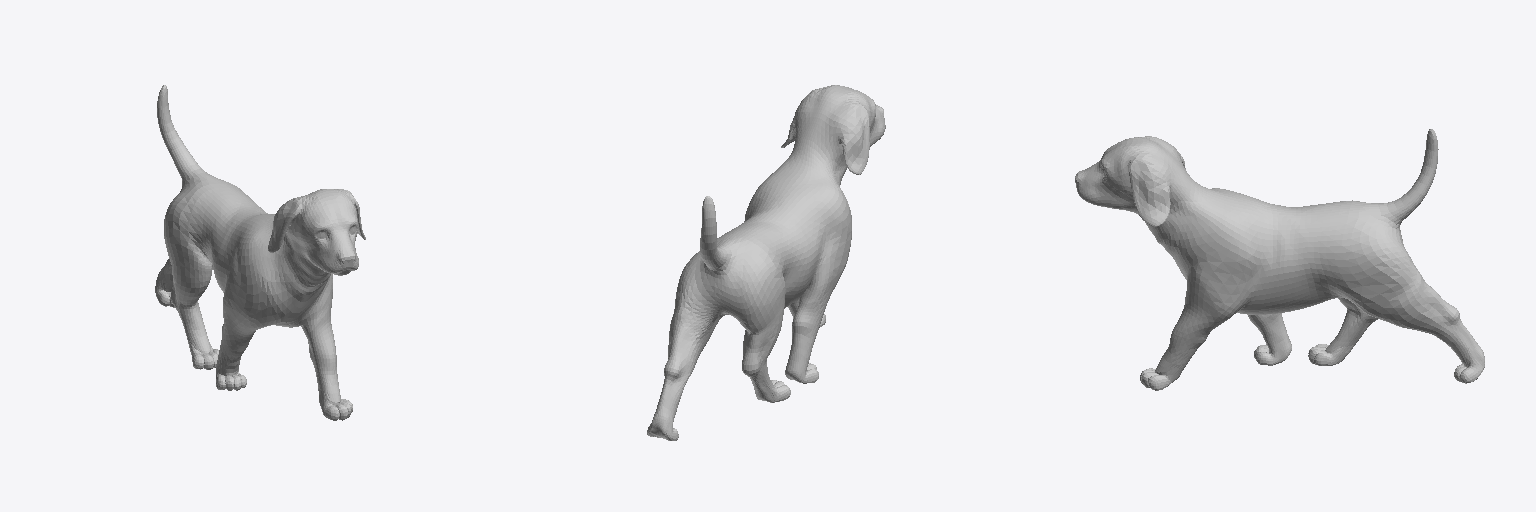
Rendered from dog.obj.
3 renders of one model, left to right at view 1: azimuth 30°, elevation 25°; view 2: azimuth 150°, elevation 25°; view 3: azimuth 270°, elevation 25°, orthographic.
Visible parts, largest first — view 1: 038_Vray; view 2: 038_Vray; view 3: 038_Vray.
Boxes of the visible parts, box(x1,y1,x2,y2) form: 038_Vray: box(155, 85, 365, 420); 038_Vray: box(647, 85, 885, 440); 038_Vray: box(1075, 129, 1484, 390).
Size of the model in its own units: 9.69 by 23.49 by 36.49.